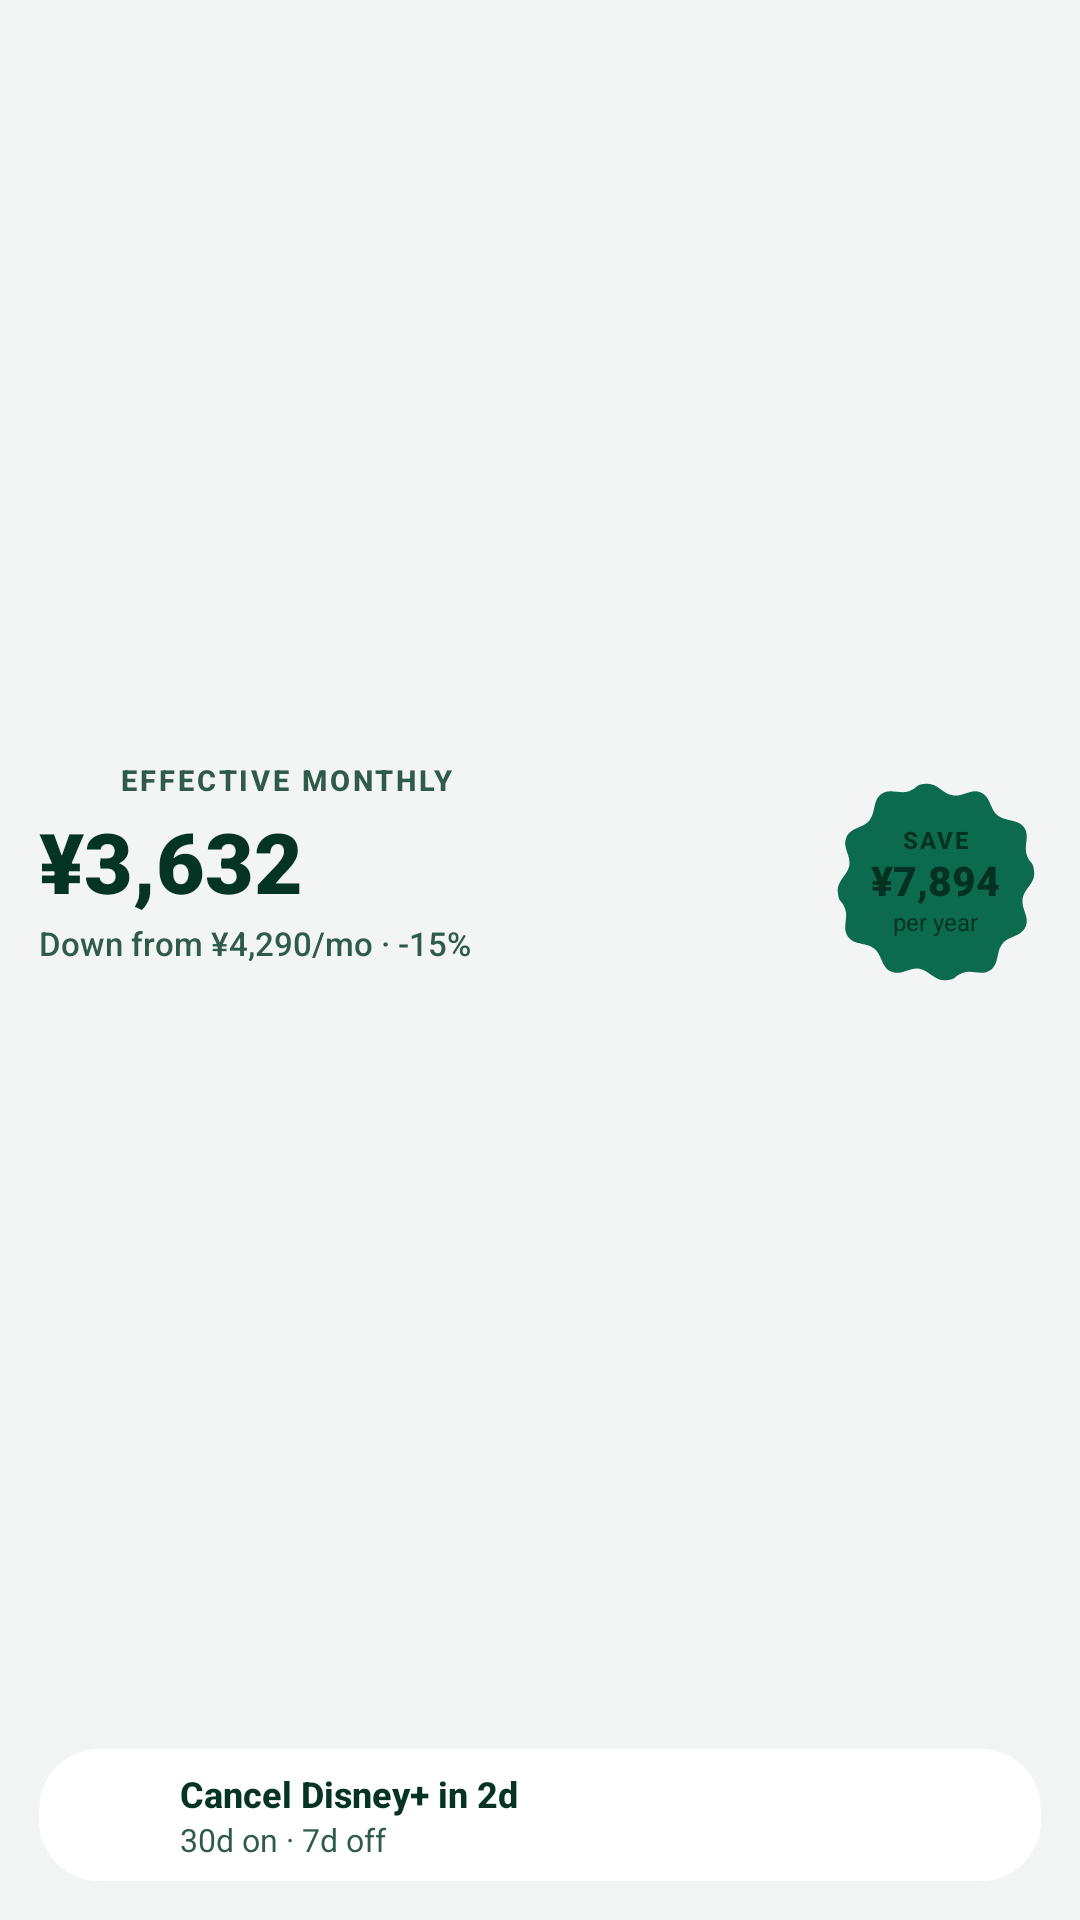

Icon click points for this 1080px×1920px phone screenshot, format (x=x, y=y):
widget cookie seal: (x=936, y=882)
